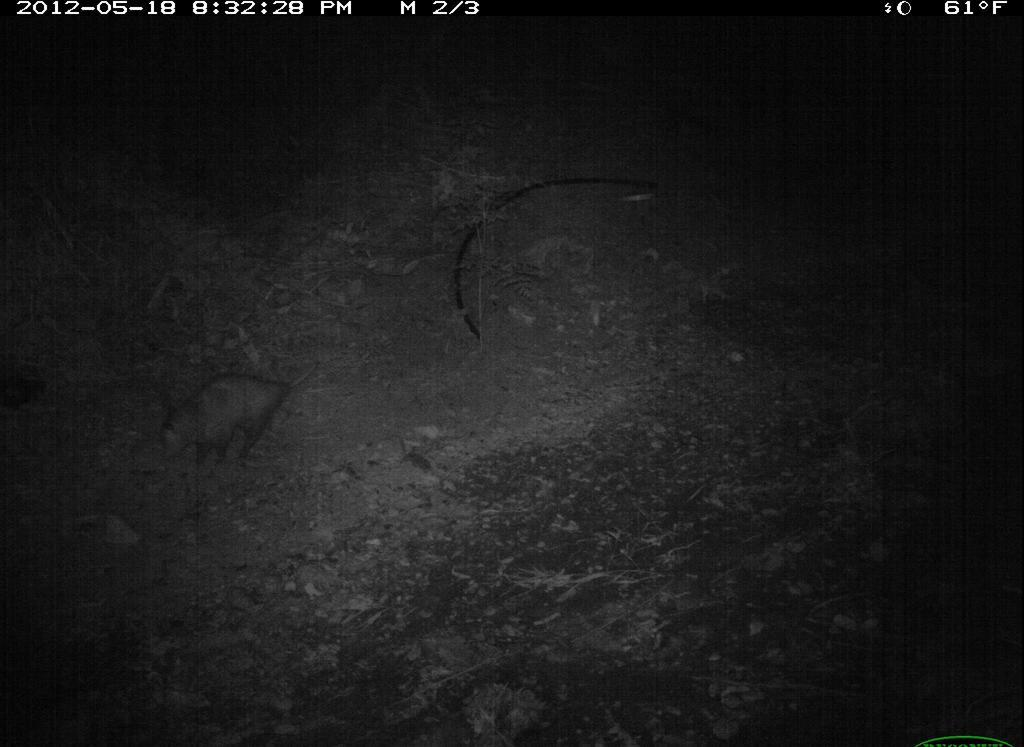opossum: (145, 359, 324, 475)
